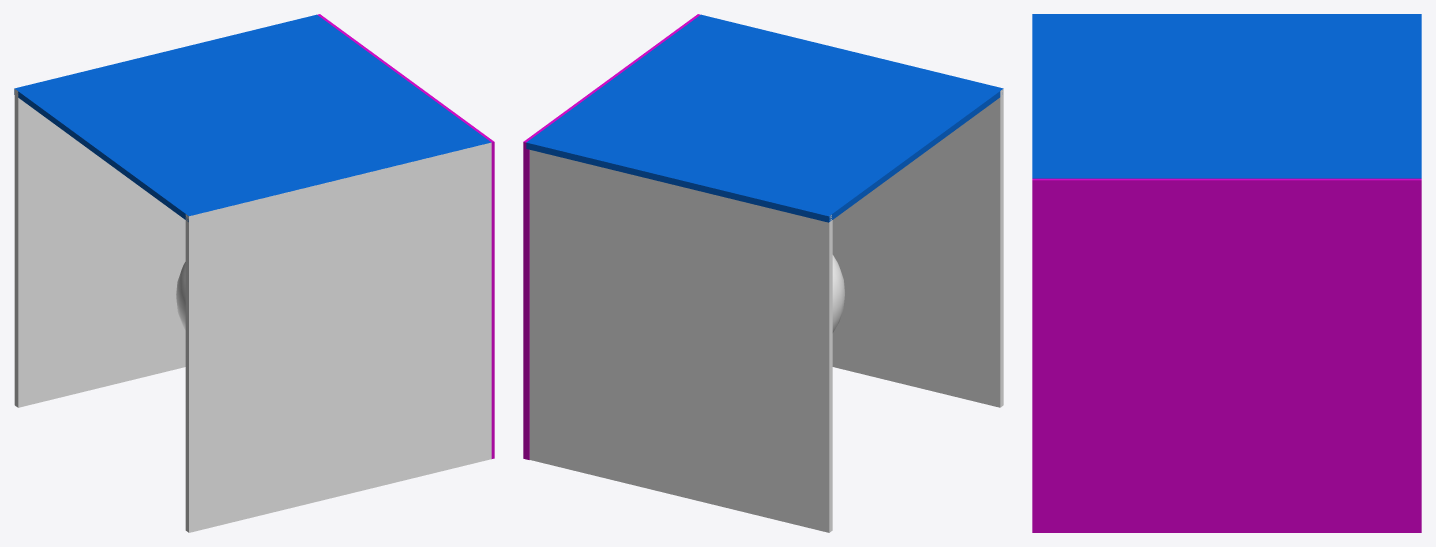
The model's file is SimpleGITest.glb.
The picture shows the model from 3 angles, left to right: view 1: azimuth 30°, elevation 25°; view 2: azimuth 150°, elevation 25°; view 3: azimuth 270°, elevation 25°; orthographic projection. The views are drawn at different scales.
Visible parts, largest first — view 1: StaticMeshActor_3, StaticMeshActor_4, StaticMeshActor_2, StaticMeshActor_5; view 2: StaticMeshActor_2, StaticMeshActor_4, StaticMeshActor_3, StaticMeshActor_5, StaticMeshActor_7; view 3: StaticMeshActor_5, StaticMeshActor_4.
Part boxes in pixels (x1=…): StaticMeshActor_3: x1=185, y1=142, x2=491, y2=532; StaticMeshActor_4: x1=14, y1=14, x2=491, y2=221; StaticMeshActor_2: x1=14, y1=89, x2=185, y2=407; StaticMeshActor_5: x1=317, y1=14, x2=494, y2=458; StaticMeshActor_2: x1=529, y1=150, x2=832, y2=532; StaticMeshActor_4: x1=526, y1=14, x2=1003, y2=222; StaticMeshActor_3: x1=832, y1=89, x2=1003, y2=407; StaticMeshActor_5: x1=523, y1=14, x2=700, y2=459; StaticMeshActor_7: x1=832, y1=255, x2=844, y2=332; StaticMeshActor_5: x1=1032, y1=178, x2=1421, y2=532; StaticMeshActor_4: x1=1032, y1=14, x2=1421, y2=178.
Size of what is drawn, in the model's own units: 5.05 by 5 by 5.
